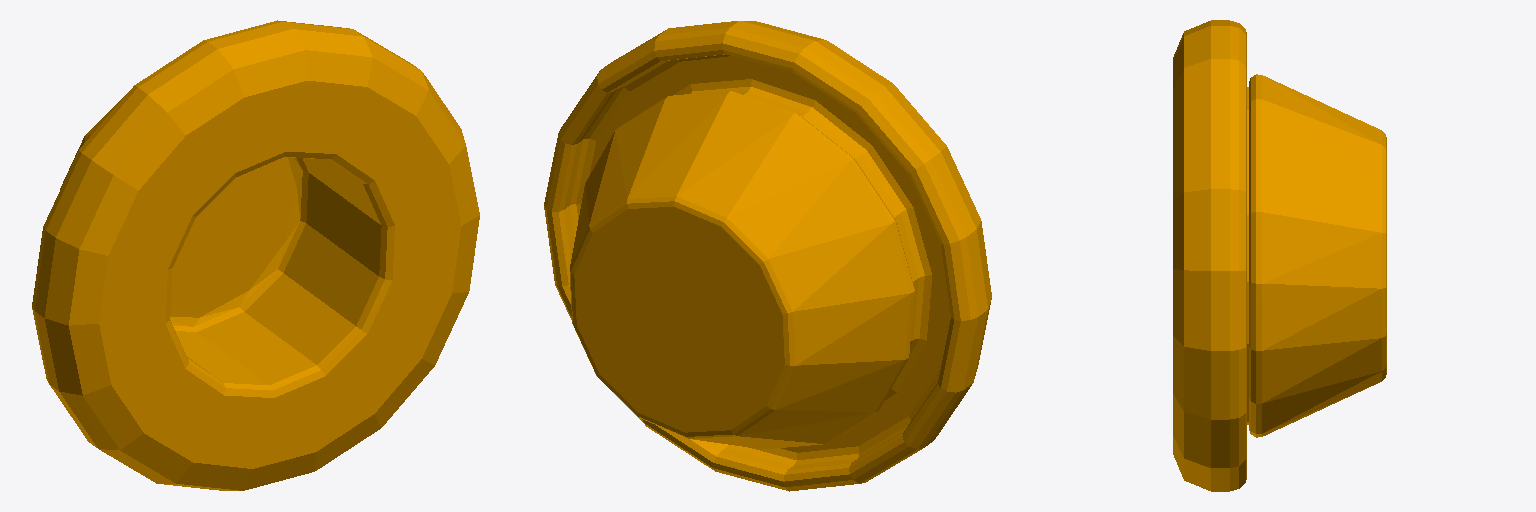
URDF robot description (rubberobturator):
<robot  name="rubberobturator">
  <link name="rubberobturator">
    <inertial>
      <origin xyz="0.0 0.0 0.0" rpy="0 0 0"/>
      <mass value="2.5"/>
      <inertia ixx="1" ixy="0.0" ixz="0.0" iyy="1" iyz="0.0" izz="1" />
    </inertial>

    <visual>
      <geometry>
        <mesh filename="../../meshes/DEMO/rubberobturator.obj" scale="1 1 1" />
      </geometry>
     </visual>

    <collision>
      <geometry>
        <mesh filename="../../meshes/DEMO/rubberobturator.obj" scale="1 1 1" />
      </geometry>
    </collision>

  </link>
</robot>

--- Facts derived from the render (not from the file) ---
Views: 3 orthographic renders of the robot side by side, from view 1: azimuth 30°, elevation 25°; view 2: azimuth 150°, elevation 25°; view 3: azimuth 270°, elevation 25°.
Robot: rubberobturator — 1 links, 0 joints (none); root link rubberobturator; default pose: all joints at 0.
Links seen in each view (by area): view 1: rubberobturator; view 2: rubberobturator; view 3: rubberobturator.
Boxes of the visible links, x1,y1,x2,y2 form: rubberobturator: [32, 20, 479, 490]; rubberobturator: [544, 21, 991, 491]; rubberobturator: [1173, 20, 1386, 491].
Size in the robot's own frame: 0.025 by 0.0113 by 0.0247 metres.
1 mesh visuals loaded from 1 distinct referenced files (1 OBJ).